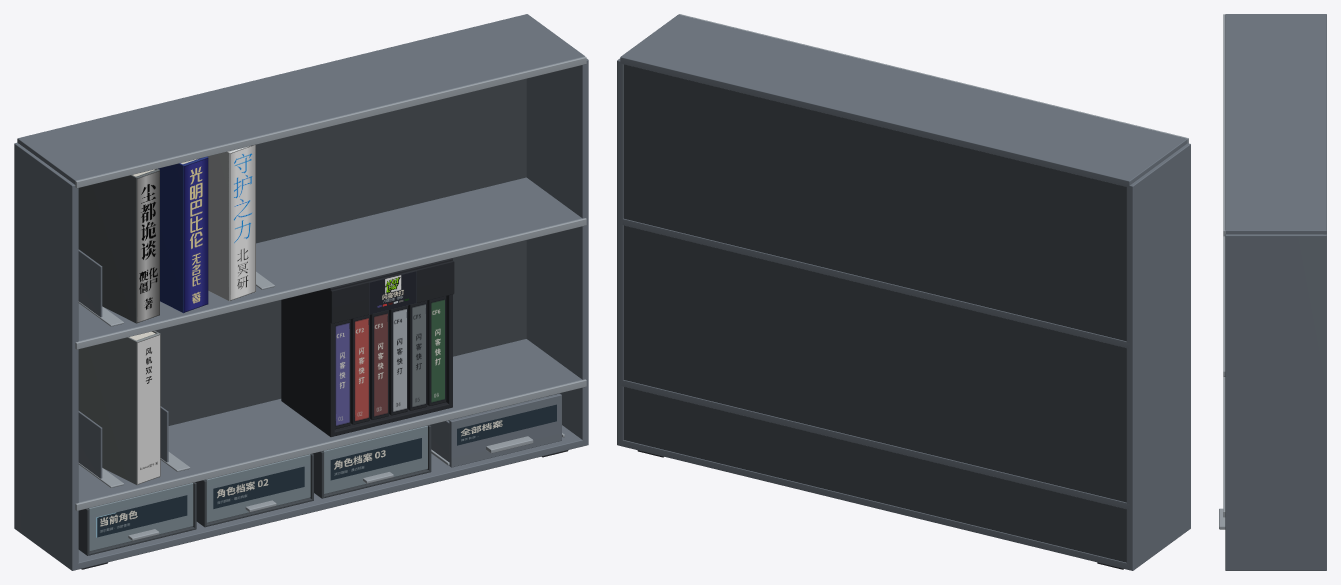
The model's file is bookshelf-v3.glb.
3 views of the same model, side by side, from view 1: azimuth 30°, elevation 25°; view 2: azimuth 150°, elevation 25°; view 3: azimuth 270°, elevation 25° (orthographic). The views are drawn at different scales.
Visible parts, largest first — view 1: Recessed back, Structural shelf.003, Cabinet side, Structural shelf.002, Cabinet side.001, Structural shelf.001, sail-twins hard cover, Slipcase side, Structural shelf, dust hard cover, Shelf leading lip.001, Shelf leading lip.002 (+29 smaller); view 2: Recessed back, Structural shelf.003, Cabinet side, Structural shelf.001, Structural shelf.002, Structural shelf, Cabinet side.001, Shelf leading lip.002; view 3: Cabinet side.001, Structural shelf.003, Shelf leading lip.002, Shelf leading lip.001, Shelf leading lip.
Boxes of the visible parts, x1,y1,x2,y2 form: Recessed back: (18, 78, 526, 425); Structural shelf.003: (17, 14, 584, 184); Cabinet side: (14, 142, 78, 570); Structural shelf.002: (78, 177, 582, 341); Cabinet side.001: (526, 59, 588, 446); Structural shelf.001: (78, 339, 582, 502); sail-twins hard cover: (78, 337, 137, 484); Slipcase side: (281, 287, 334, 436); Structural shelf: (78, 425, 582, 569); dust hard cover: (78, 175, 137, 323); Shelf leading lip.001: (75, 218, 586, 349); Shelf leading lip.002: (75, 56, 586, 188); Recessed back: (623, 64, 1126, 562); Structural shelf.003: (620, 14, 1187, 186); Cabinet side: (1126, 143, 1190, 570); Structural shelf.001: (620, 380, 1129, 509); Structural shelf.002: (621, 218, 1129, 348); Structural shelf: (621, 440, 1129, 569); Cabinet side.001: (617, 58, 623, 446); Shelf leading lip.002: (679, 14, 1188, 143); Cabinet side.001: (1225, 234, 1326, 570); Structural shelf.003: (1225, 14, 1326, 234); Shelf leading lip.002: (1223, 14, 1225, 236); Shelf leading lip.001: (1223, 236, 1225, 376); Shelf leading lip: (1223, 377, 1225, 517).
Bounding box in the file's own units: 23.8 × 17.43 × 4.94.
Materials: 38 (26 with a texture image).
